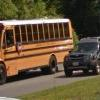buses: (1, 18, 76, 78)
